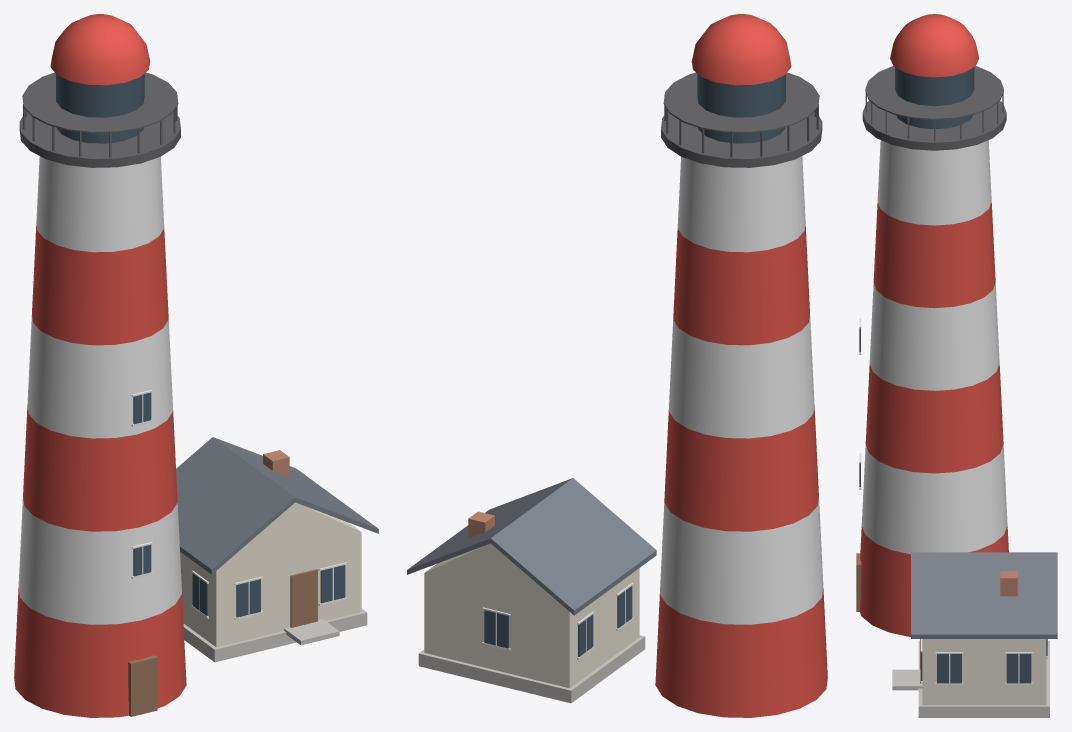
The model's file is lighthouse.glb.
3 renders of one model, left to right at view 1: azimuth 30°, elevation 25°; view 2: azimuth 150°, elevation 25°; view 3: azimuth 270°, elevation 25°, orthographic. The views are drawn at different scales.
Parts seen in each view (by area): view 1: lighthouse; view 2: lighthouse; view 3: lighthouse.
Boxes of the visible parts, x1,y1,x2,y2 form: lighthouse: (14,14,378,717); lighthouse: (407,14,827,717); lighthouse: (856,14,1057,717).
Bounding box in the file's own units: 14.05 × 26.15 × 8.1.
